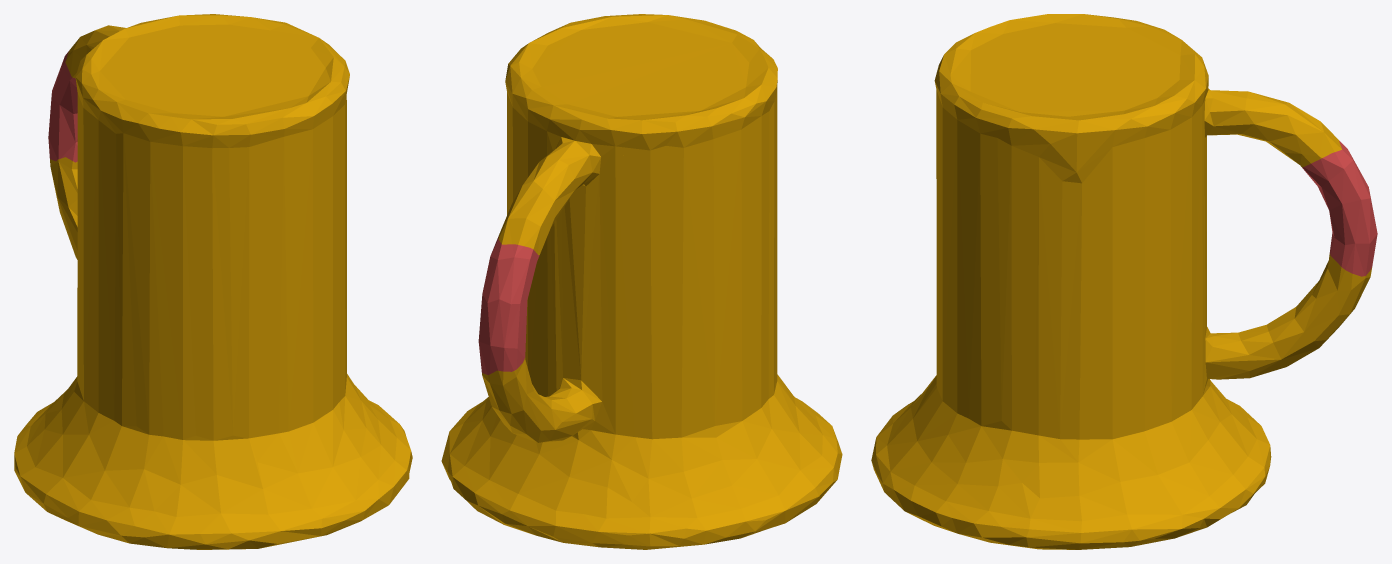
Rendered from fractured_46_2pcs.glb.
3 views of the same model, side by side, from view 1: azimuth 30°, elevation 25°; view 2: azimuth 150°, elevation 25°; view 3: azimuth 270°, elevation 25° (orthographic).
Parts seen in each view (by area): view 1: piece_0.obj, piece_1.obj; view 2: piece_0.obj, piece_1.obj; view 3: piece_0.obj, piece_1.obj.
Part boxes in pixels (box(x1,y1,x2,y2)): piece_0.obj: box(14, 14, 412, 549); piece_1.obj: box(48, 50, 77, 162); piece_0.obj: box(441, 14, 842, 549); piece_1.obj: box(478, 236, 539, 374); piece_0.obj: box(871, 14, 1372, 549); piece_1.obj: box(1302, 141, 1377, 276).
Bounding box in the file's own units: 0.7907 × 0.8805 × 1.
